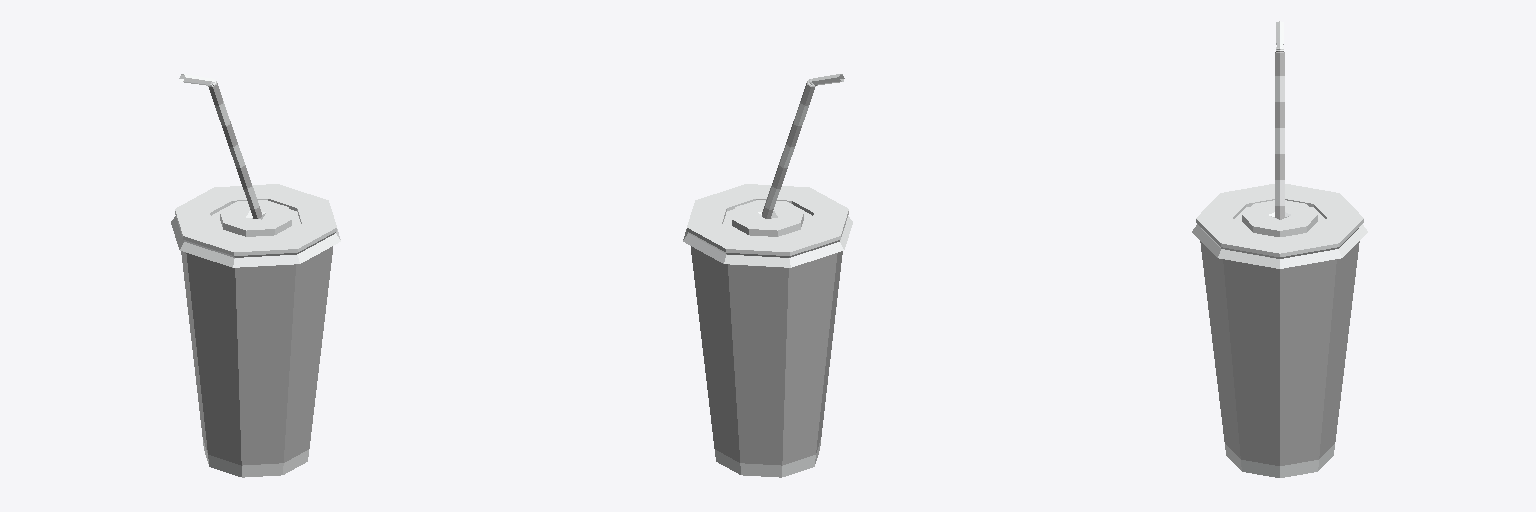
Rendered from cupp.obj.
The picture shows the model from 3 angles: view 1: azimuth 30°, elevation 25°; view 2: azimuth 150°, elevation 25°; view 3: azimuth 270°, elevation 25°; orthographic projection.
Parts seen in each view (by area): view 1: Cup, Cap, Tube; view 2: Cup, Cap, Tube; view 3: Cup, Cap, Tube.
Boxes of the visible parts, <box> form: Cup: <box>181,246,332,477</box>; Cap: <box>171,184,340,267</box>; Tube: <box>179,74,261,218</box>; Cup: <box>691,246,842,477</box>; Cap: <box>683,184,852,267</box>; Tube: <box>762,74,844,218</box>; Cup: <box>1200,241,1359,477</box>; Cap: <box>1192,184,1367,268</box>; Tube: <box>1275,21,1284,219</box>.
Bounding box in the file's own units: 1.04 × 2.59 × 1.04.